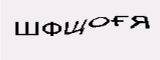Г: (55, 22, 66, 41)
Д: (100, 20, 124, 48)
К: (36, 20, 59, 41)
М: (69, 24, 86, 41)
П: (83, 20, 102, 45)
